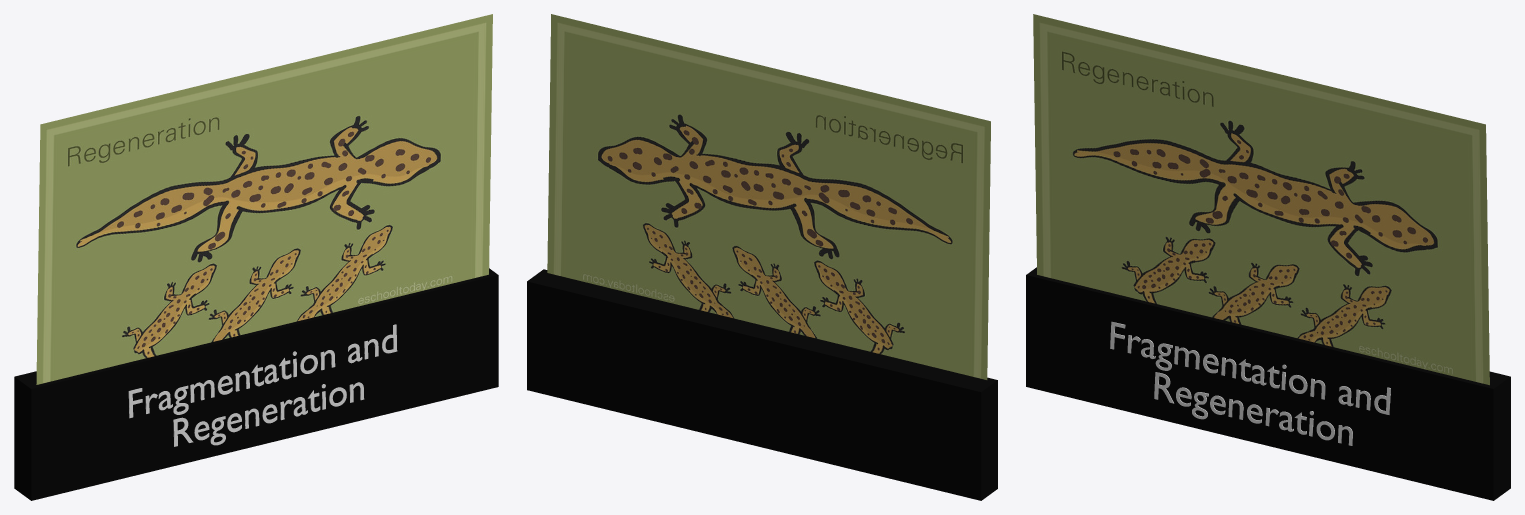
File: fragmentation.gltf
3 renders of one model, left to right at view 1: azimuth 30°, elevation 25°; view 2: azimuth 150°, elevation 25°; view 3: azimuth 330°, elevation 25°, orthographic. The views are drawn at different scales.
Parts seen in each view (by area): view 1: regeneration, Cube.003, Text.001; view 2: regeneration, Cube.003; view 3: regeneration, Cube.003, Text.001.
Part boxes in pixels (x1=…): regeneration: x1=36, y1=14, x2=492, y2=384; Cube.003: x1=14, y1=268, x2=498, y2=500; Text.001: x1=128, y1=324, x2=397, y2=446; regeneration: x1=547, y1=14, x2=990, y2=379; Cube.003: x1=527, y1=269, x2=997, y2=500; regeneration: x1=1033, y1=14, x2=1489, y2=385; Cube.003: x1=1026, y1=267, x2=1510, y2=500; Text.001: x1=1110, y1=321, x2=1390, y2=445.
Size of the model in its own units: 3.34 by 2.56 by 0.3055.
Materials: 2 (1 with a texture image).
